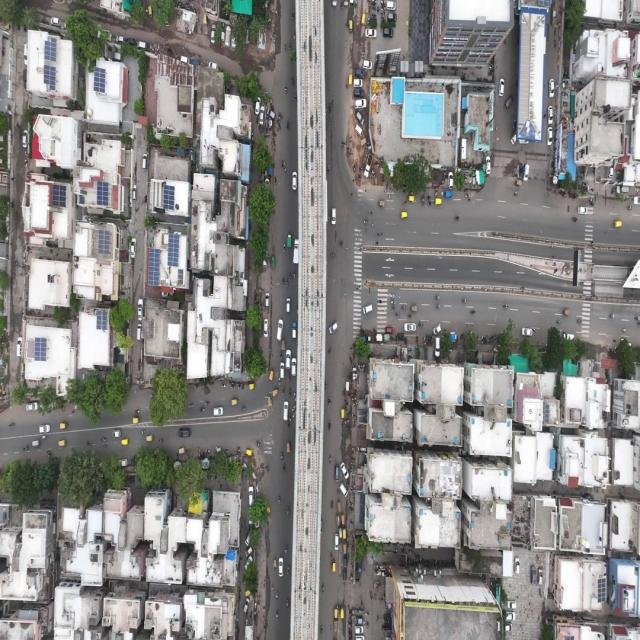3W: (610, 216, 622, 232), (339, 569, 348, 587), (346, 16, 354, 36), (559, 305, 571, 318), (331, 558, 339, 576), (146, 0, 154, 18), (361, 7, 367, 30), (338, 602, 346, 619), (406, 192, 416, 205), (408, 303, 420, 313), (264, 396, 274, 408), (229, 395, 239, 407), (144, 433, 156, 443), (57, 422, 69, 432), (268, 364, 274, 383), (340, 406, 346, 424), (332, 618, 338, 636), (132, 415, 141, 427), (376, 196, 385, 208), (57, 439, 67, 449), (177, 446, 186, 457), (120, 436, 129, 447), (272, 388, 280, 400), (332, 607, 339, 620), (400, 209, 410, 218), (334, 511, 339, 528), (337, 498, 343, 512), (435, 198, 443, 208), (286, 441, 292, 454), (339, 513, 345, 525), (250, 380, 256, 392), (349, 68, 353, 86), (341, 546, 348, 556), (246, 448, 254, 456), (343, 555, 347, 568), (344, 528, 346, 543), (583, 184, 602, 184)
Cars: (546, 73, 556, 102), (128, 232, 138, 260), (353, 62, 366, 81), (384, 10, 399, 26), (350, 98, 369, 110), (136, 294, 144, 322), (24, 399, 38, 415), (363, 298, 375, 316), (561, 330, 575, 345), (502, 93, 512, 113), (15, 334, 22, 362), (289, 354, 296, 382), (22, 42, 29, 70), (109, 425, 122, 440), (211, 401, 223, 417), (505, 596, 517, 612), (47, 16, 63, 28), (328, 316, 338, 335), (339, 460, 349, 479), (245, 483, 254, 504), (178, 426, 191, 440), (277, 553, 284, 579), (402, 320, 416, 333), (223, 22, 230, 48), (244, 554, 253, 574), (139, 150, 148, 170), (546, 125, 553, 150), (276, 312, 282, 340), (290, 318, 297, 342), (520, 324, 534, 336), (352, 86, 366, 98), (290, 170, 298, 191), (282, 399, 289, 422), (270, 250, 277, 273), (530, 565, 537, 588), (484, 153, 491, 176), (523, 161, 530, 184), (118, 454, 128, 470), (546, 104, 554, 124), (285, 346, 291, 372), (384, 0, 396, 13), (179, 54, 192, 66), (432, 324, 441, 341), (23, 128, 30, 149), (37, 422, 49, 434), (264, 286, 270, 310), (242, 598, 251, 614), (253, 98, 261, 116), (365, 27, 378, 38), (284, 296, 291, 316), (502, 621, 512, 635), (578, 203, 588, 217), (448, 169, 455, 189), (383, 27, 393, 41), (112, 32, 126, 42), (263, 316, 269, 339), (279, 357, 285, 380), (538, 565, 544, 588), (132, 183, 138, 206), (334, 463, 341, 482), (384, 323, 395, 335), (435, 336, 441, 358), (498, 76, 504, 98), (353, 77, 365, 88), (207, 58, 219, 69), (361, 60, 374, 70), (355, 122, 363, 138), (514, 555, 520, 576), (242, 547, 254, 557), (341, 482, 348, 499), (136, 321, 142, 340), (351, 615, 363, 624), (356, 112, 365, 124), (267, 108, 276, 120), (334, 531, 339, 552), (211, 23, 216, 44), (510, 133, 518, 146), (21, 69, 26, 89), (355, 625, 366, 634), (135, 40, 147, 48), (331, 208, 336, 226), (191, 54, 200, 64), (244, 532, 250, 546), (260, 105, 264, 126), (509, 612, 517, 621)
LCV: (362, 151, 373, 183), (292, 236, 300, 265), (287, 231, 293, 248)
M2W: (283, 502, 292, 523), (622, 200, 633, 216), (512, 189, 524, 202), (466, 308, 479, 320), (100, 440, 110, 454), (328, 493, 335, 513), (294, 83, 300, 106), (132, 404, 143, 416), (326, 157, 333, 175), (7, 421, 18, 432), (21, 444, 31, 456), (327, 346, 336, 359), (325, 418, 333, 432), (432, 291, 442, 302), (97, 433, 109, 442), (264, 459, 270, 477), (500, 302, 512, 311), (253, 437, 260, 452), (319, 581, 326, 596), (570, 212, 578, 225), (362, 214, 370, 227), (327, 452, 333, 469), (44, 447, 54, 457), (241, 402, 248, 416), (282, 42, 289, 56), (280, 458, 286, 474), (292, 266, 298, 282), (286, 36, 291, 55), (284, 117, 291, 130), (326, 394, 332, 409), (280, 383, 286, 398), (619, 325, 628, 335), (432, 185, 441, 195), (388, 292, 398, 301), (554, 318, 562, 329), (22, 159, 30, 170), (199, 406, 206, 418), (220, 381, 227, 393), (194, 382, 201, 394), (276, 494, 282, 508), (319, 621, 325, 635), (281, 243, 287, 257), (606, 312, 615, 321), (452, 214, 461, 223), (433, 302, 443, 310), (287, 384, 293, 397), (401, 299, 407, 312), (272, 175, 279, 186), (286, 561, 290, 580), (140, 426, 146, 438), (323, 379, 329, 391), (577, 316, 583, 328), (328, 252, 336, 261), (290, 73, 296, 85), (394, 309, 401, 319), (87, 437, 93, 448), (275, 610, 280, 623), (282, 85, 287, 98), (157, 435, 165, 443), (276, 590, 280, 606), (632, 316, 640, 324), (417, 321, 424, 330), (279, 450, 284, 462), (284, 277, 290, 287), (426, 188, 431, 200), (280, 158, 285, 170), (290, 56, 295, 68), (285, 596, 289, 610), (292, 26, 296, 40), (428, 200, 434, 209), (339, 239, 345, 248), (389, 300, 398, 306), (463, 296, 469, 305), (419, 196, 426, 203), (284, 542, 288, 554), (292, 402, 296, 414), (204, 399, 210, 406), (189, 402, 193, 410), (291, 9, 294, 19)
